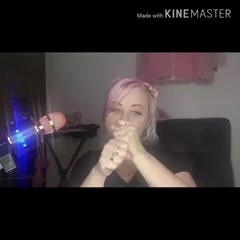G: (97, 115, 144, 175)
